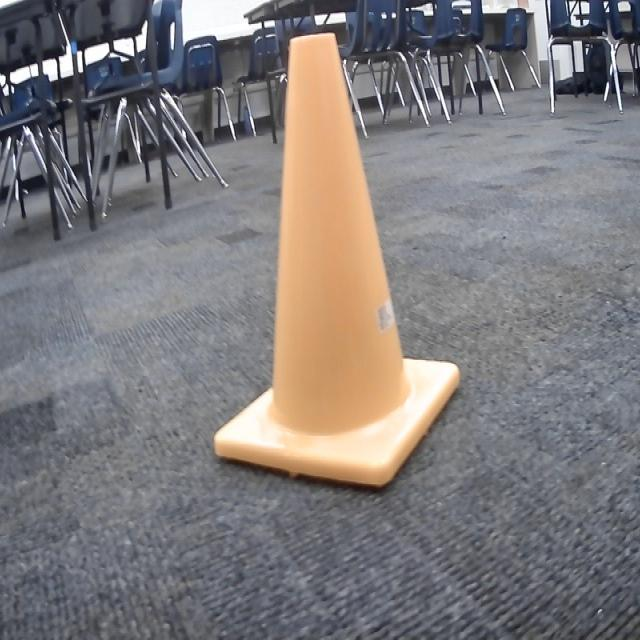cone: (212, 31, 461, 492)
